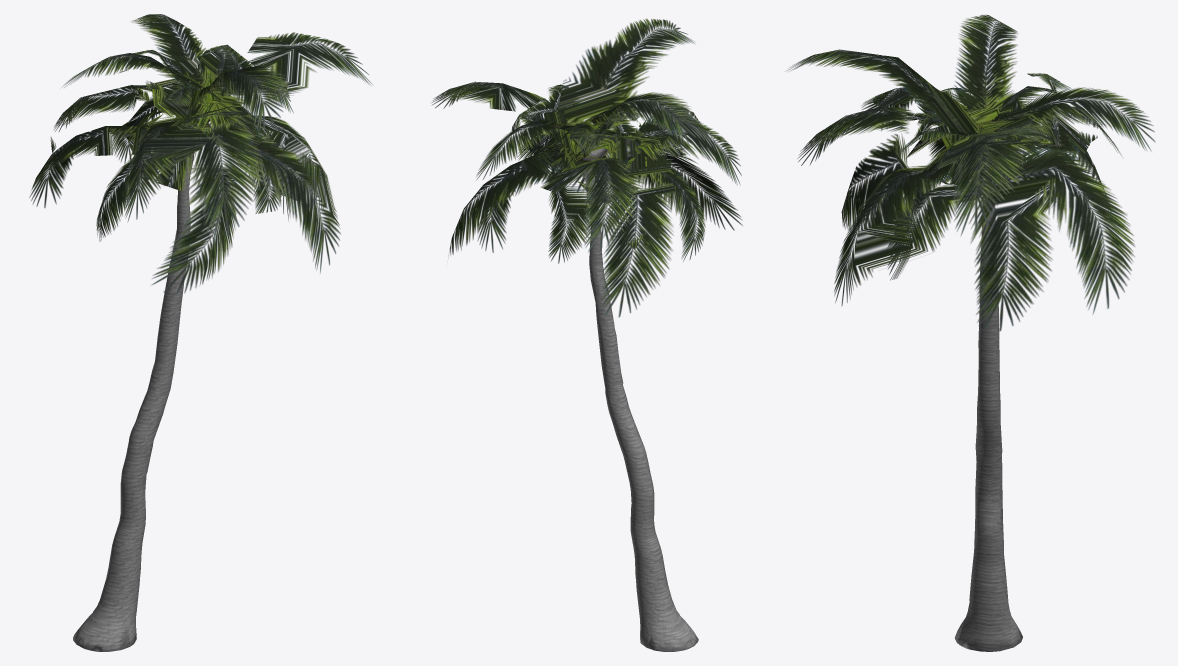
File: palm_tall_lod2.glb
3 views of the same model, side by side, from view 1: azimuth 30°, elevation 25°; view 2: azimuth 150°, elevation 25°; view 3: azimuth 270°, elevation 25° (orthographic). The views are drawn at different scales.
Parts seen in each view (by area): view 1: Cylinder.001; view 2: Cylinder.001; view 3: Cylinder.001.
Part boxes in pixels (<box>): Cylinder.001: <box>29,14,373,651</box>; Cylinder.001: <box>431,19,742,651</box>; Cylinder.001: <box>785,14,1155,651</box>.
Bounding box in the file's own units: 2.57 × 4.5 × 2.47.
2 materials, 2 textured.
